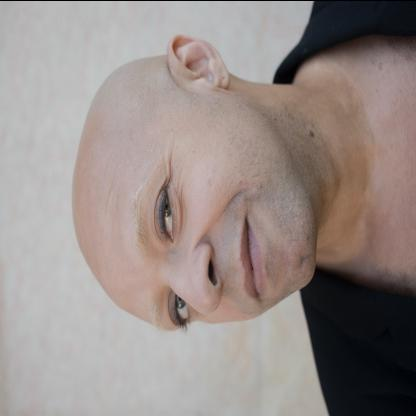Eye: (152, 180, 182, 244), (166, 280, 196, 333)
Mouth: (236, 206, 270, 310)
Nose: (171, 238, 223, 314)
